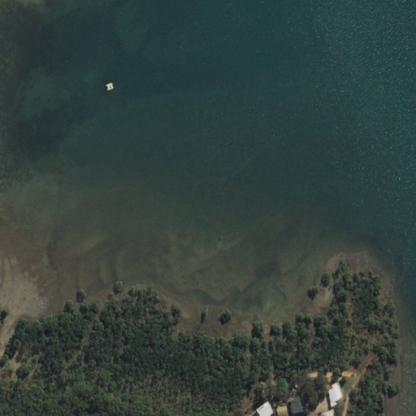ship: (104, 80, 113, 87)
